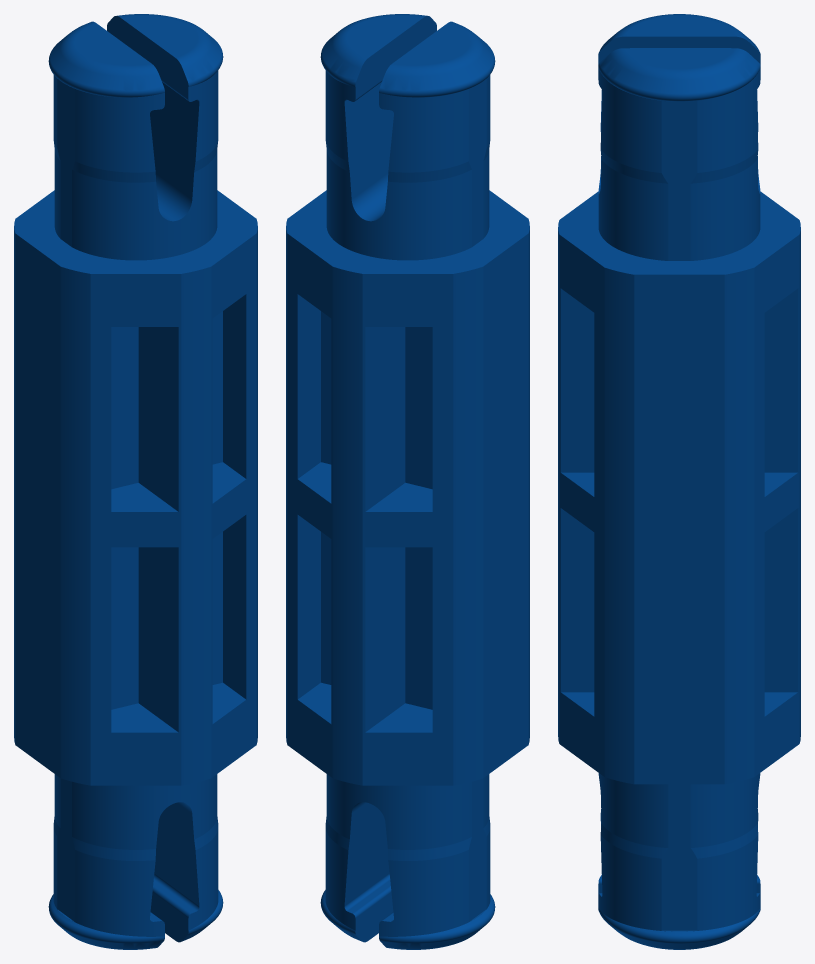
3 renders of one model, left to right at view 1: azimuth 30°, elevation 25°; view 2: azimuth 150°, elevation 25°; view 3: azimuth 270°, elevation 25°, orthographic.
Visible parts, largest first — view 1: 228-2500-2269; view 2: 228-2500-2269; view 3: 228-2500-2269.
Boxes of the visible parts, x1,y1,x2,y2 form: 228-2500-2269: [14, 14, 257, 949]; 228-2500-2269: [286, 14, 529, 949]; 228-2500-2269: [558, 14, 800, 949].
Size of the model in its own units: 0.0058 by 0.025 by 0.00625.
